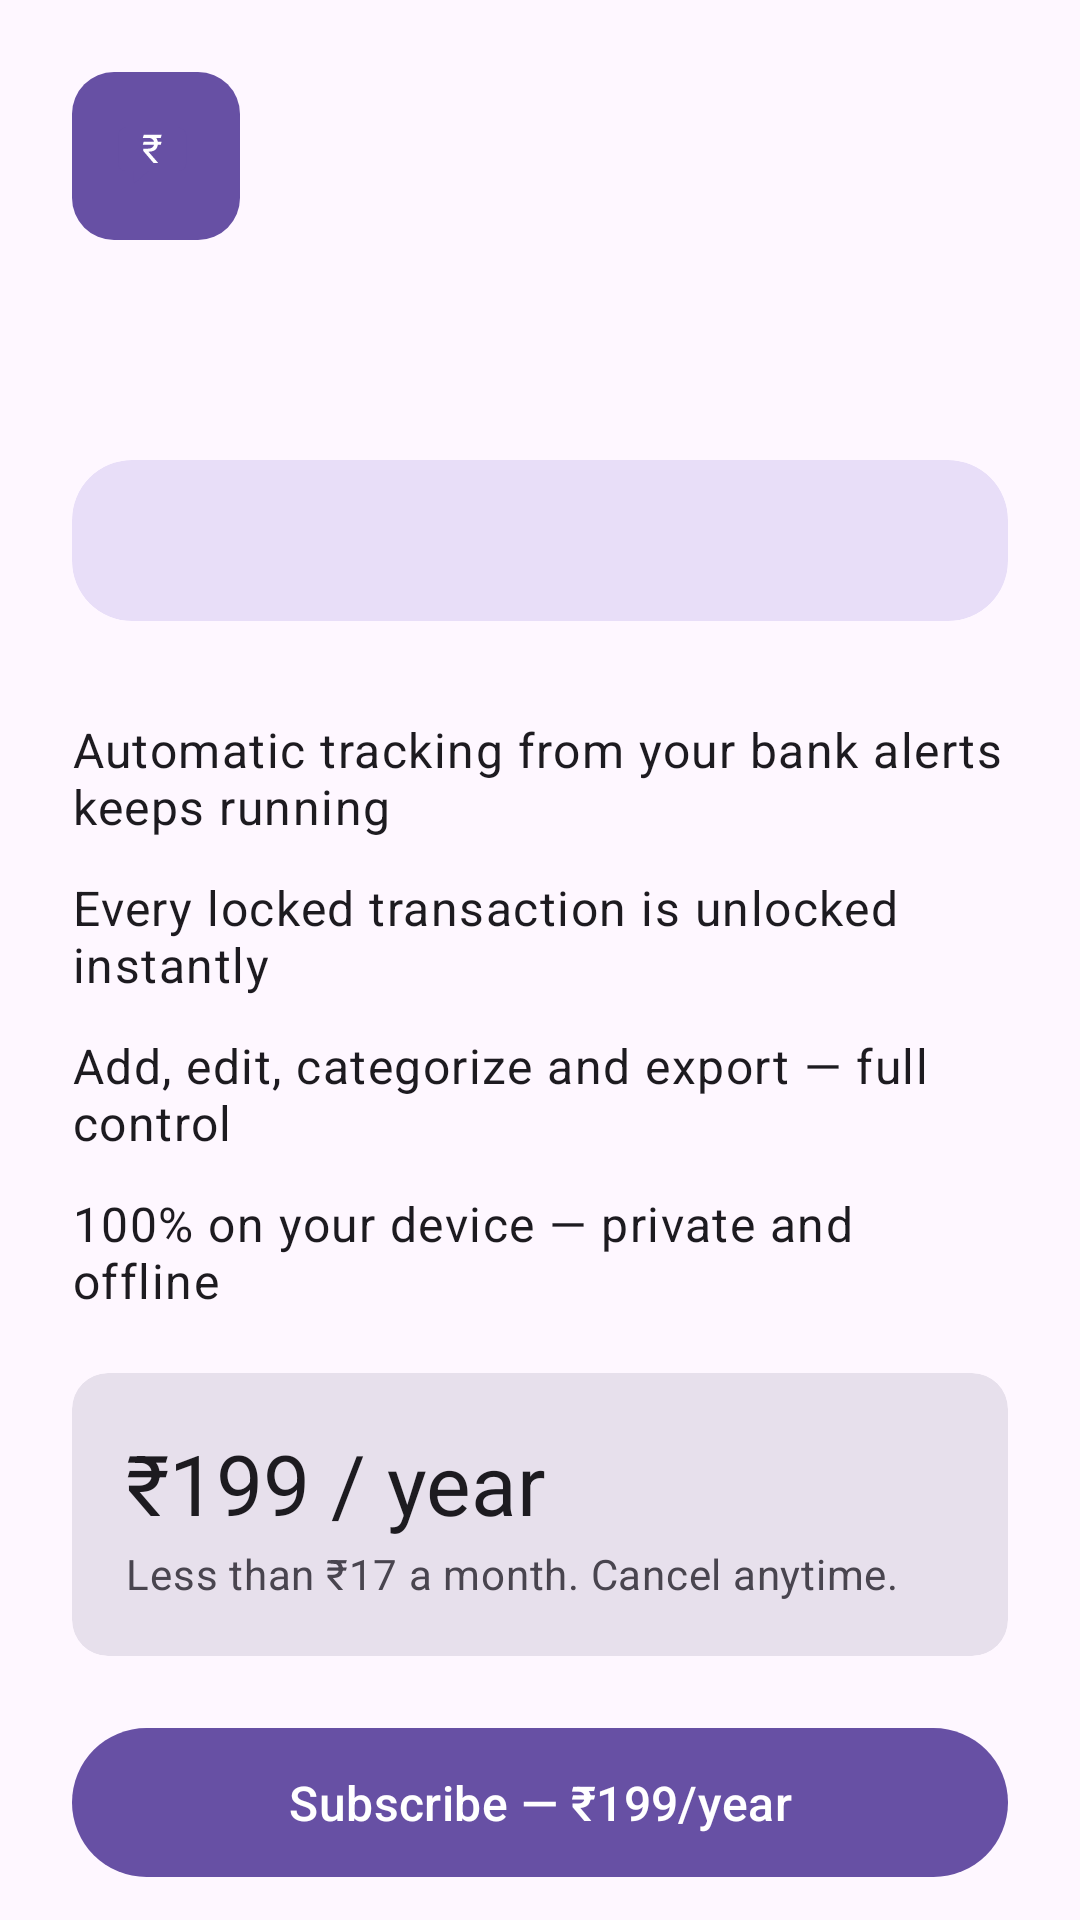

Icon bounding boxes for this 1080*1920 phone screenshot, format [x1=x1, y1=y1, x2=x2, y2=y2]:
brand mark: [x1=72, y1=72, x2=240, y2=240]
